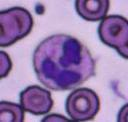N: (32, 34, 94, 90)
